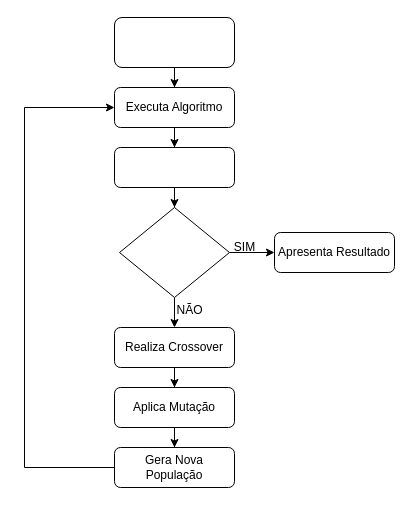
Some shapes in this 412 by 505 pixel diagram are drawn without their labels. Each missing label, with the centre of its shape:
"Gera População Inicial Aleatória" belongs at (x=174, y=42).
"Qtd Gerações Atingida ?" belongs at (x=174, y=252).
"Realiza Seleção" belongs at (x=174, y=167).
